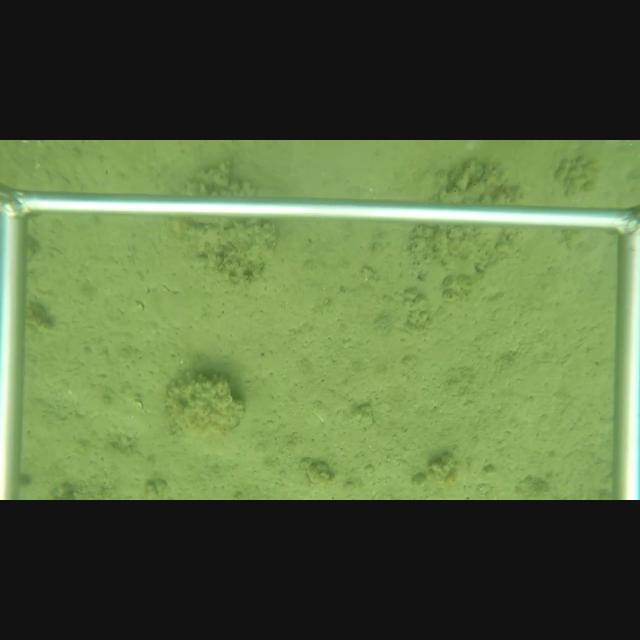Oyster-Closed: (162, 369, 247, 431)
